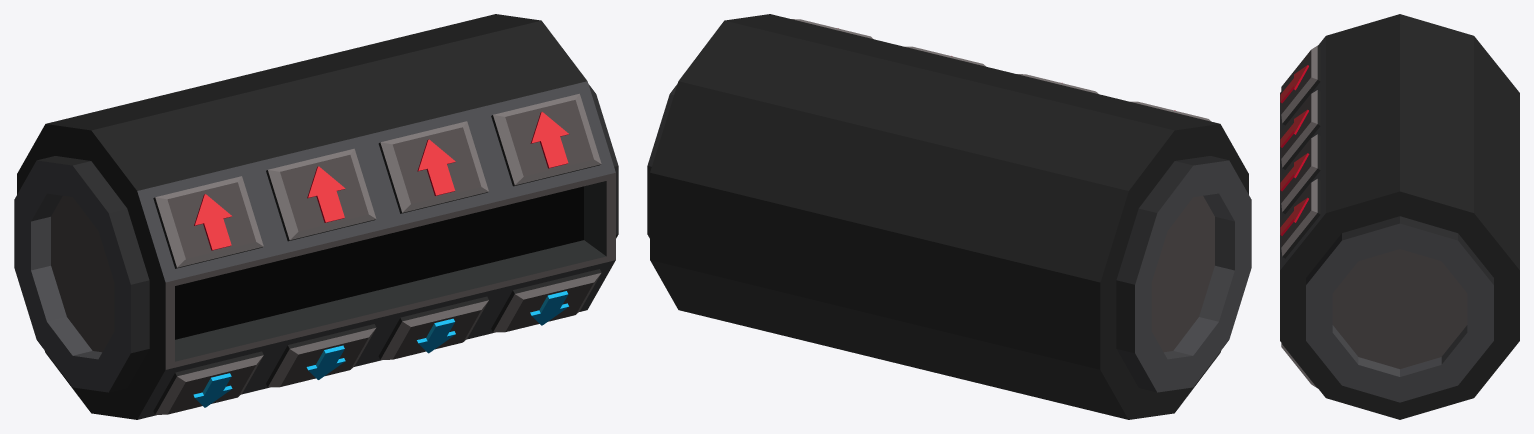
The model's file is Padlock_old.glb.
The picture shows the model from 3 angles, left to right: view 1: azimuth 30°, elevation 25°; view 2: azimuth 150°, elevation 25°; view 3: azimuth 270°, elevation 25°; orthographic projection. The views are drawn at different scales.
Parts seen in each view (by area): view 1: Padlock; view 2: Padlock; view 3: Padlock.
Part boxes in pixels (x1,y1,x2,y2): Padlock: [14, 14, 618, 419]; Padlock: [647, 14, 1251, 419]; Padlock: [1280, 14, 1519, 419].
Size of what is drawn, in the model's own units: 0.4154 by 0.2303 by 0.219.
1 material, 1 textured.
